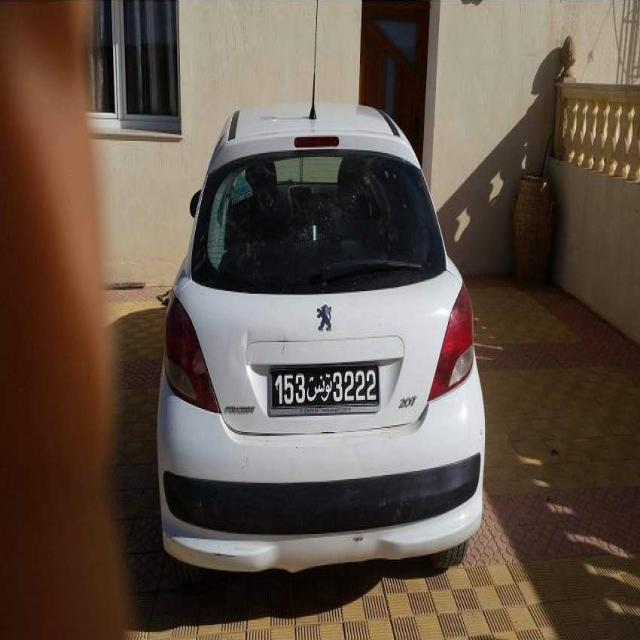licence plate: (272, 367, 379, 406)
